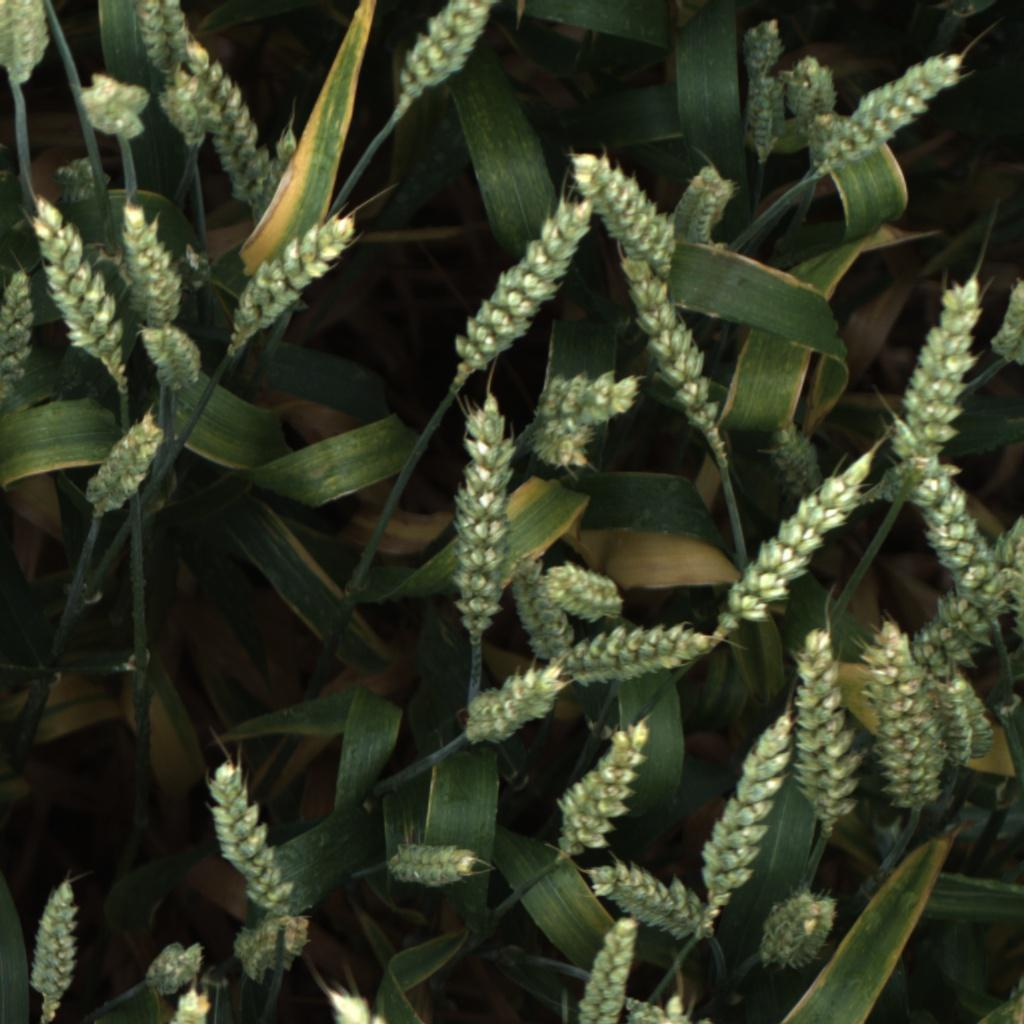0-0: (444, 192, 596, 387), (717, 456, 885, 630), (615, 251, 741, 463), (700, 708, 801, 940), (916, 488, 1024, 685), (29, 200, 134, 384), (884, 417, 992, 584), (813, 51, 959, 174), (232, 208, 359, 343), (191, 39, 288, 212), (451, 388, 516, 644), (899, 263, 994, 436), (568, 142, 693, 273), (196, 752, 293, 903), (555, 723, 659, 849), (559, 615, 723, 693), (787, 622, 851, 816), (868, 615, 928, 803), (388, 7, 493, 108), (456, 655, 562, 755), (19, 874, 92, 1017), (577, 853, 700, 937), (78, 407, 172, 511), (111, 196, 189, 320), (575, 909, 654, 1024), (731, 15, 788, 159), (68, 63, 153, 156), (756, 888, 844, 975), (535, 364, 645, 430), (505, 535, 560, 667), (231, 909, 320, 987), (543, 553, 626, 634), (385, 833, 485, 899), (933, 675, 997, 768), (152, 66, 223, 148), (129, 319, 206, 392), (46, 147, 124, 219), (0, 265, 46, 387), (672, 161, 738, 246), (779, 48, 842, 135), (136, 934, 215, 1001), (0, 2, 58, 92), (127, 2, 193, 80), (753, 410, 826, 480), (526, 418, 599, 482), (991, 278, 1024, 369)
